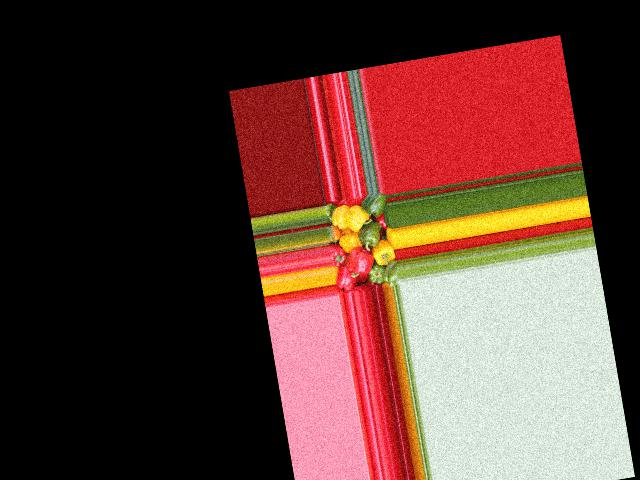bell_pepper: (322, 203, 337, 226)
